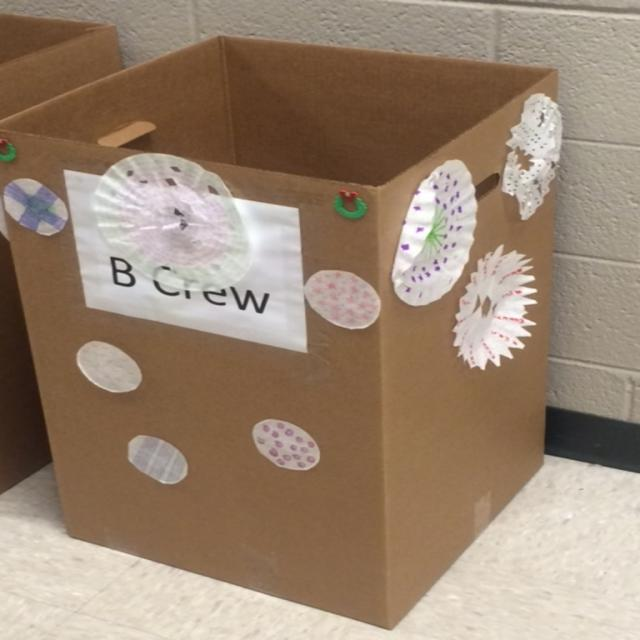Box: (0, 34, 562, 631), (0, 13, 123, 495)
